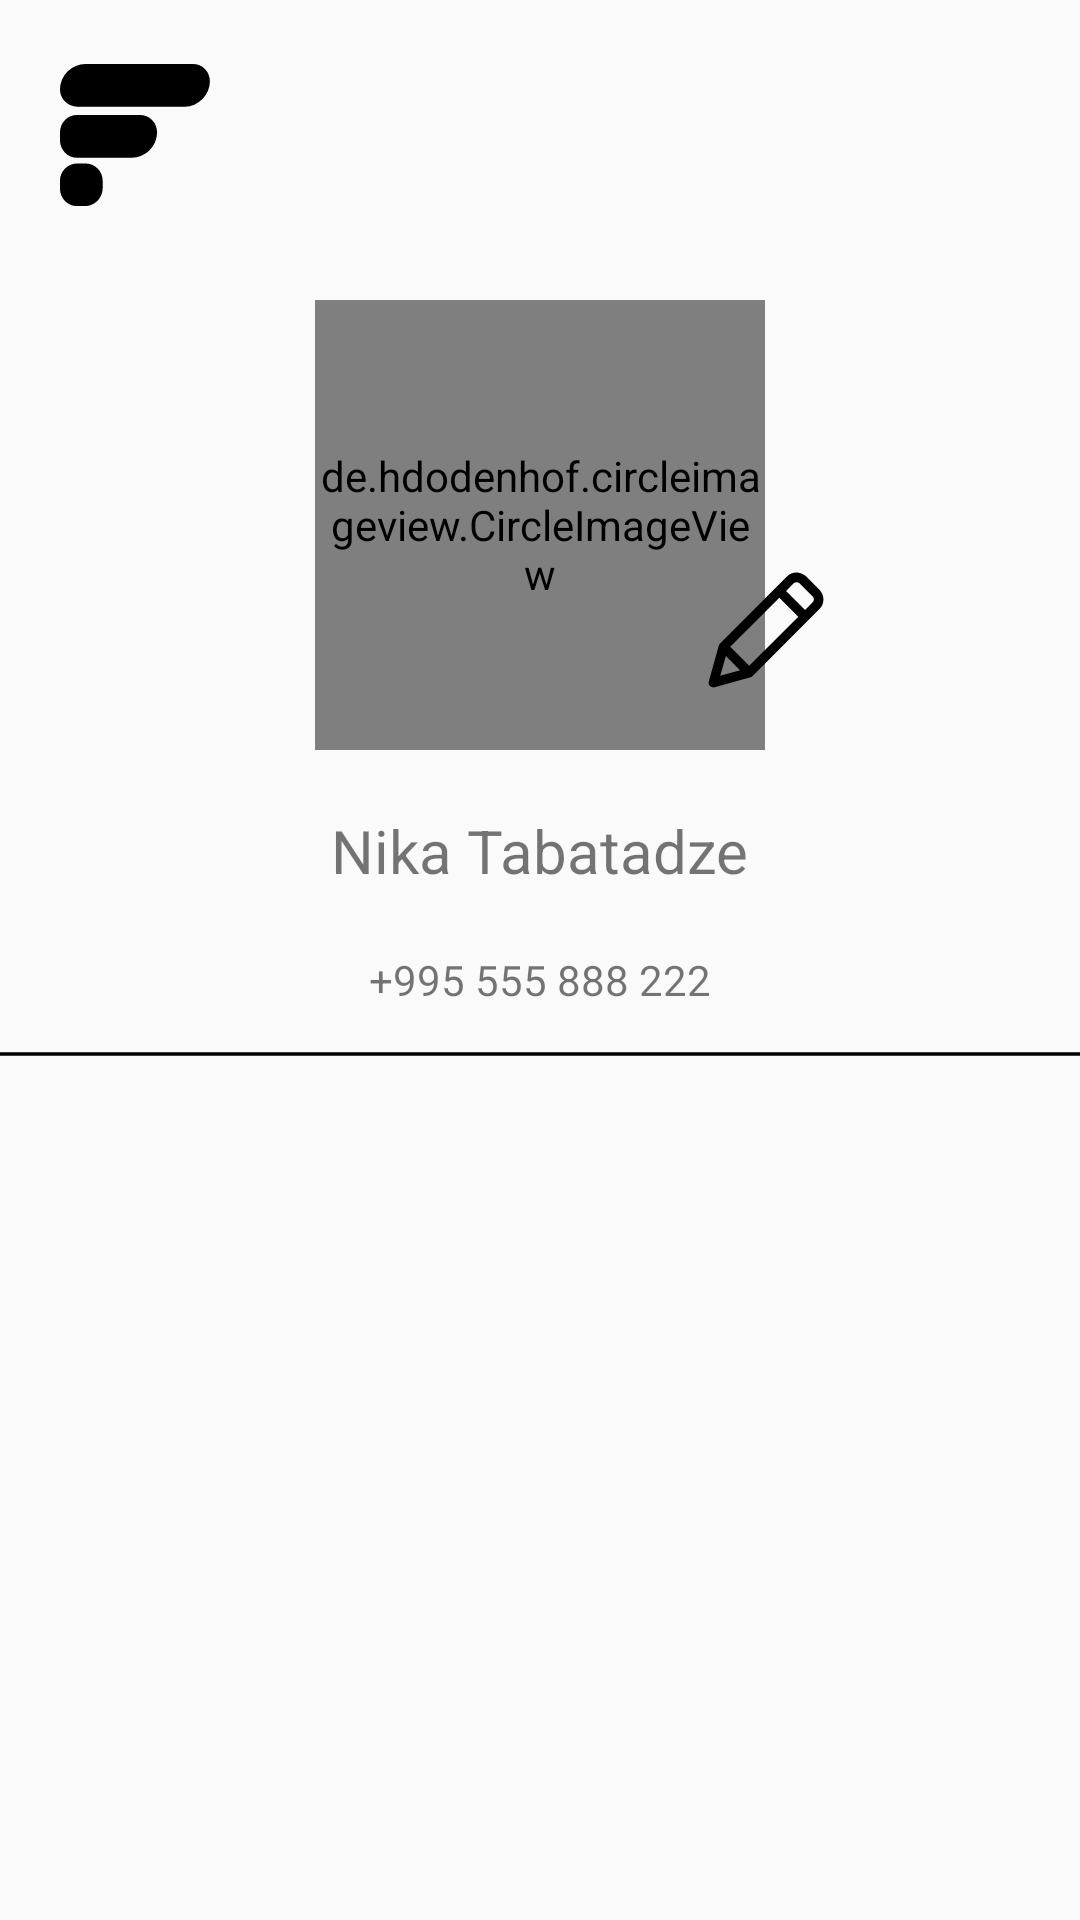

Icon click points for this 1080px×1920px phone screenshot, format [x,y]:
pencil: [766,630]
